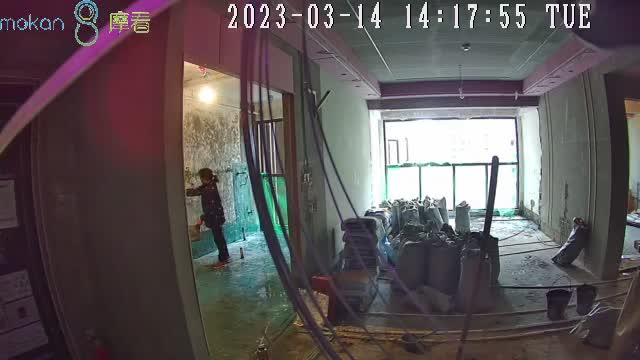people: (185, 168, 230, 268)
window: (385, 117, 521, 207)
